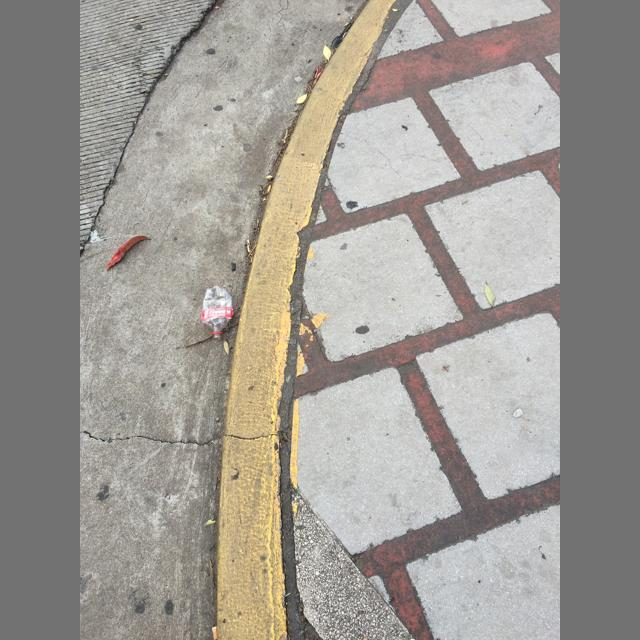litter: (201, 285, 233, 341), (213, 627, 218, 639), (267, 185, 269, 192)
